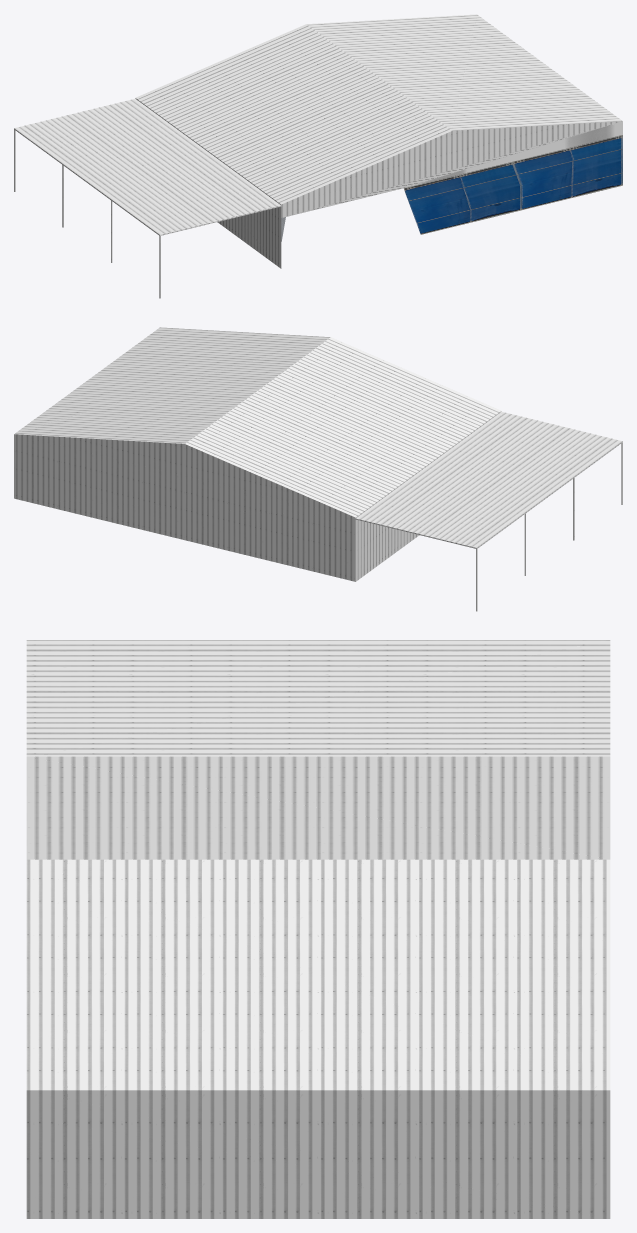
File: KibuiBigHangar_LOD1.gltf
3 renders of one model, top to bottom at view 1: azimuth 30°, elevation 25°; view 2: azimuth 150°, elevation 25°; view 3: azimuth 270°, elevation 25°, orthographic. The views are drawn at different scales.
Visible parts, largest first — view 1: node5, node6; view 2: node5; view 3: node5.
Boxes of the visible parts, x1=… form: node5: x1=14, y1=14, x2=622, y2=298; node6: x1=403, y1=135, x2=622, y2=234; node5: x1=14, y1=327, x2=622, y2=611; node5: x1=26, y1=640, x2=610, y2=1218.
Bounding box in the file's own units: 22.9 × 4.55 × 12.5.
